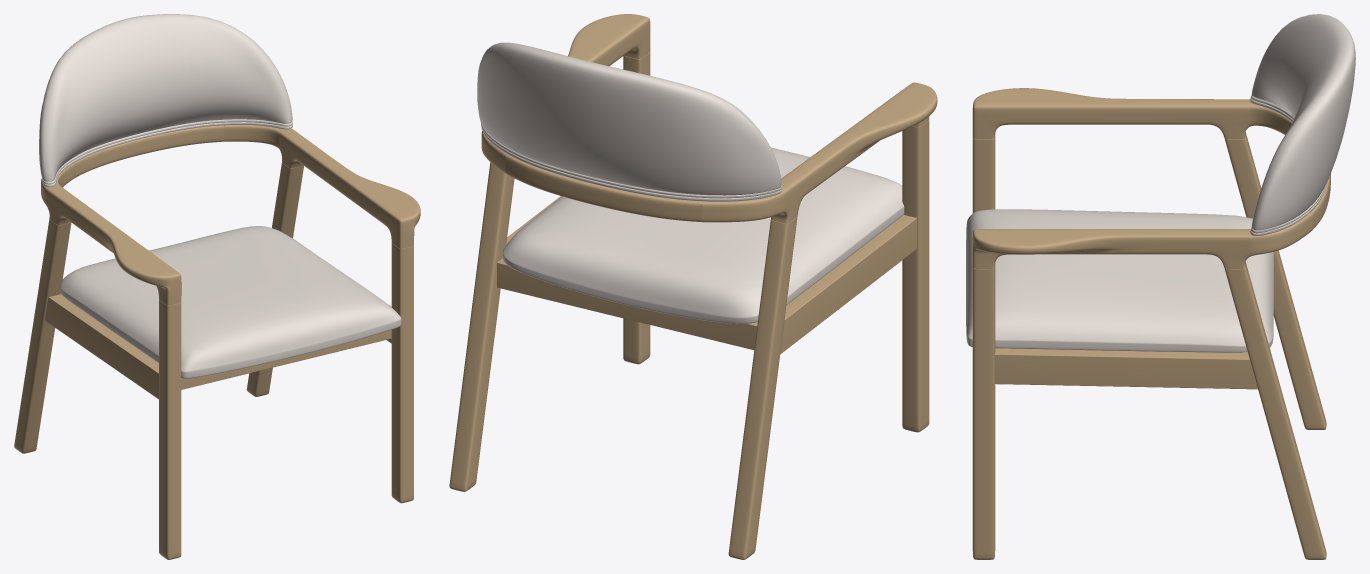
Rendered from gamay-cadeira.glb.
The picture shows the model from 3 angles, left to right: view 1: azimuth 30°, elevation 25°; view 2: azimuth 150°, elevation 25°; view 3: azimuth 270°, elevation 25°; orthographic projection. The views are drawn at different scales.
Size of the model in its own units: 0.5168 by 0.6736 by 0.5305.
